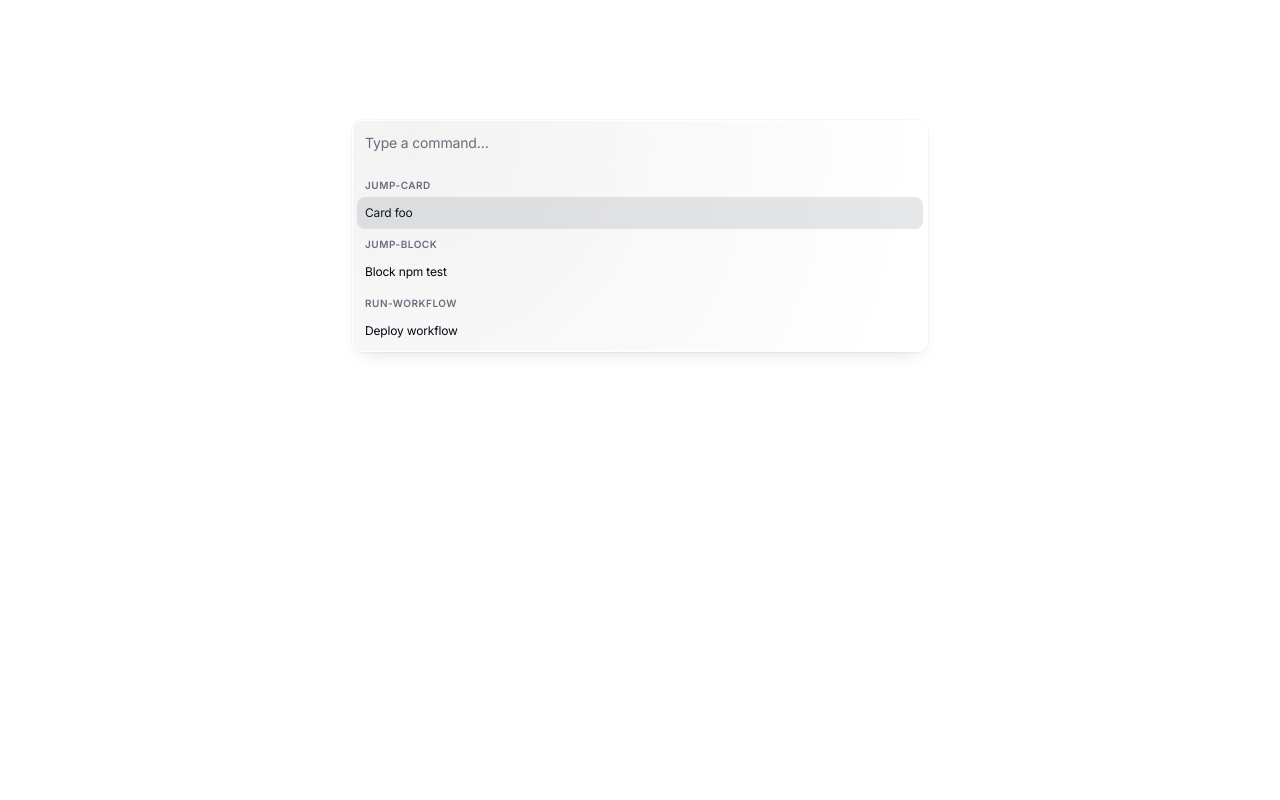
Scenario: CommandPalette › shows the empty state when no matches
Type "zzzzz" into the field with test id "palette-input". click: (640, 144)
box: [353,121,927,166]
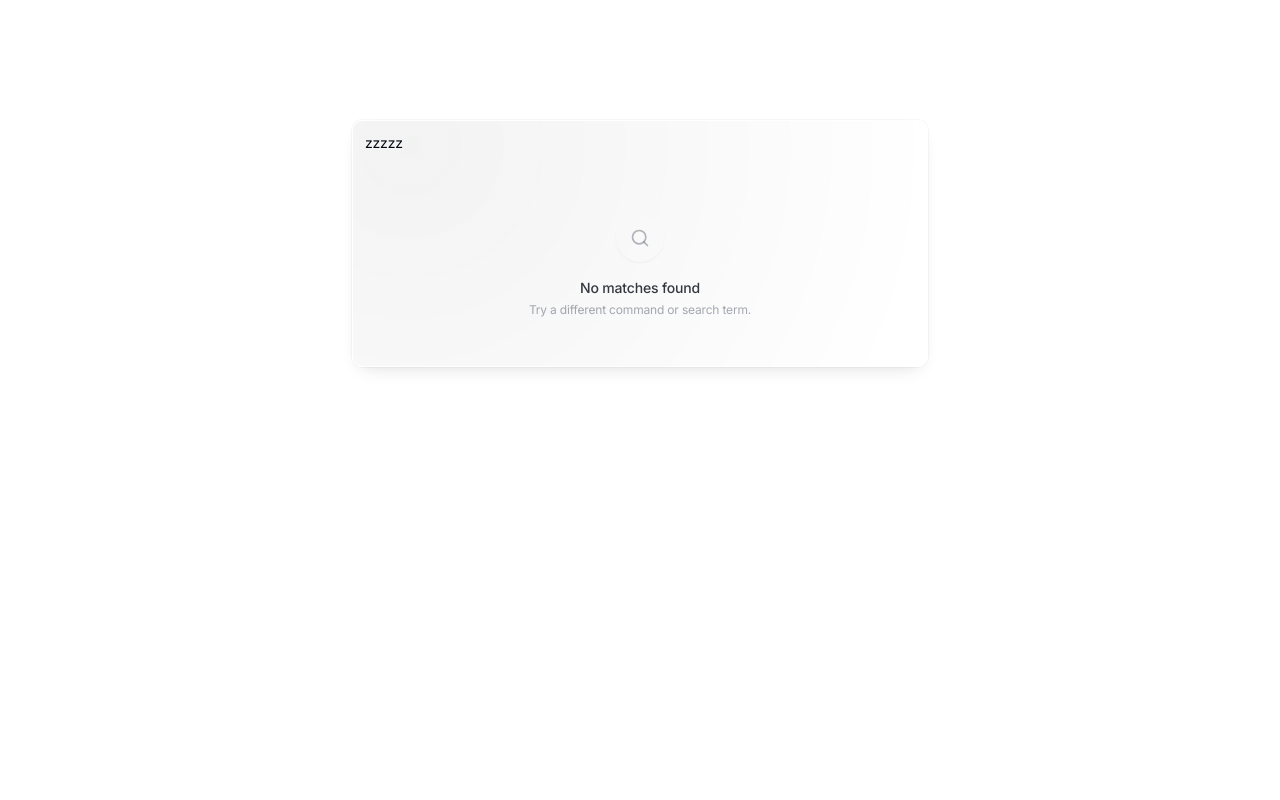
Expected: the text "No matches found" is shown, [580,278,700,298]
